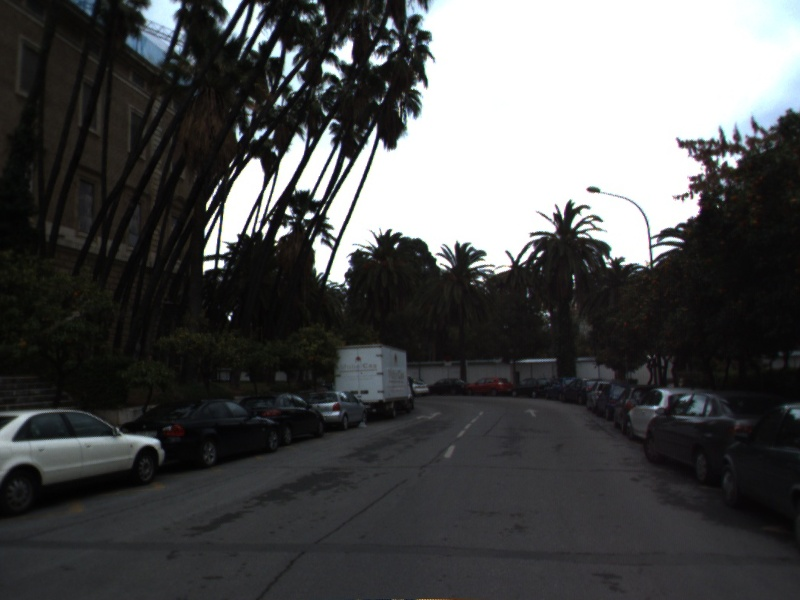STRAIGHT: (522, 407, 540, 418)
STRAIGHT_LEFT: (414, 410, 444, 422)
